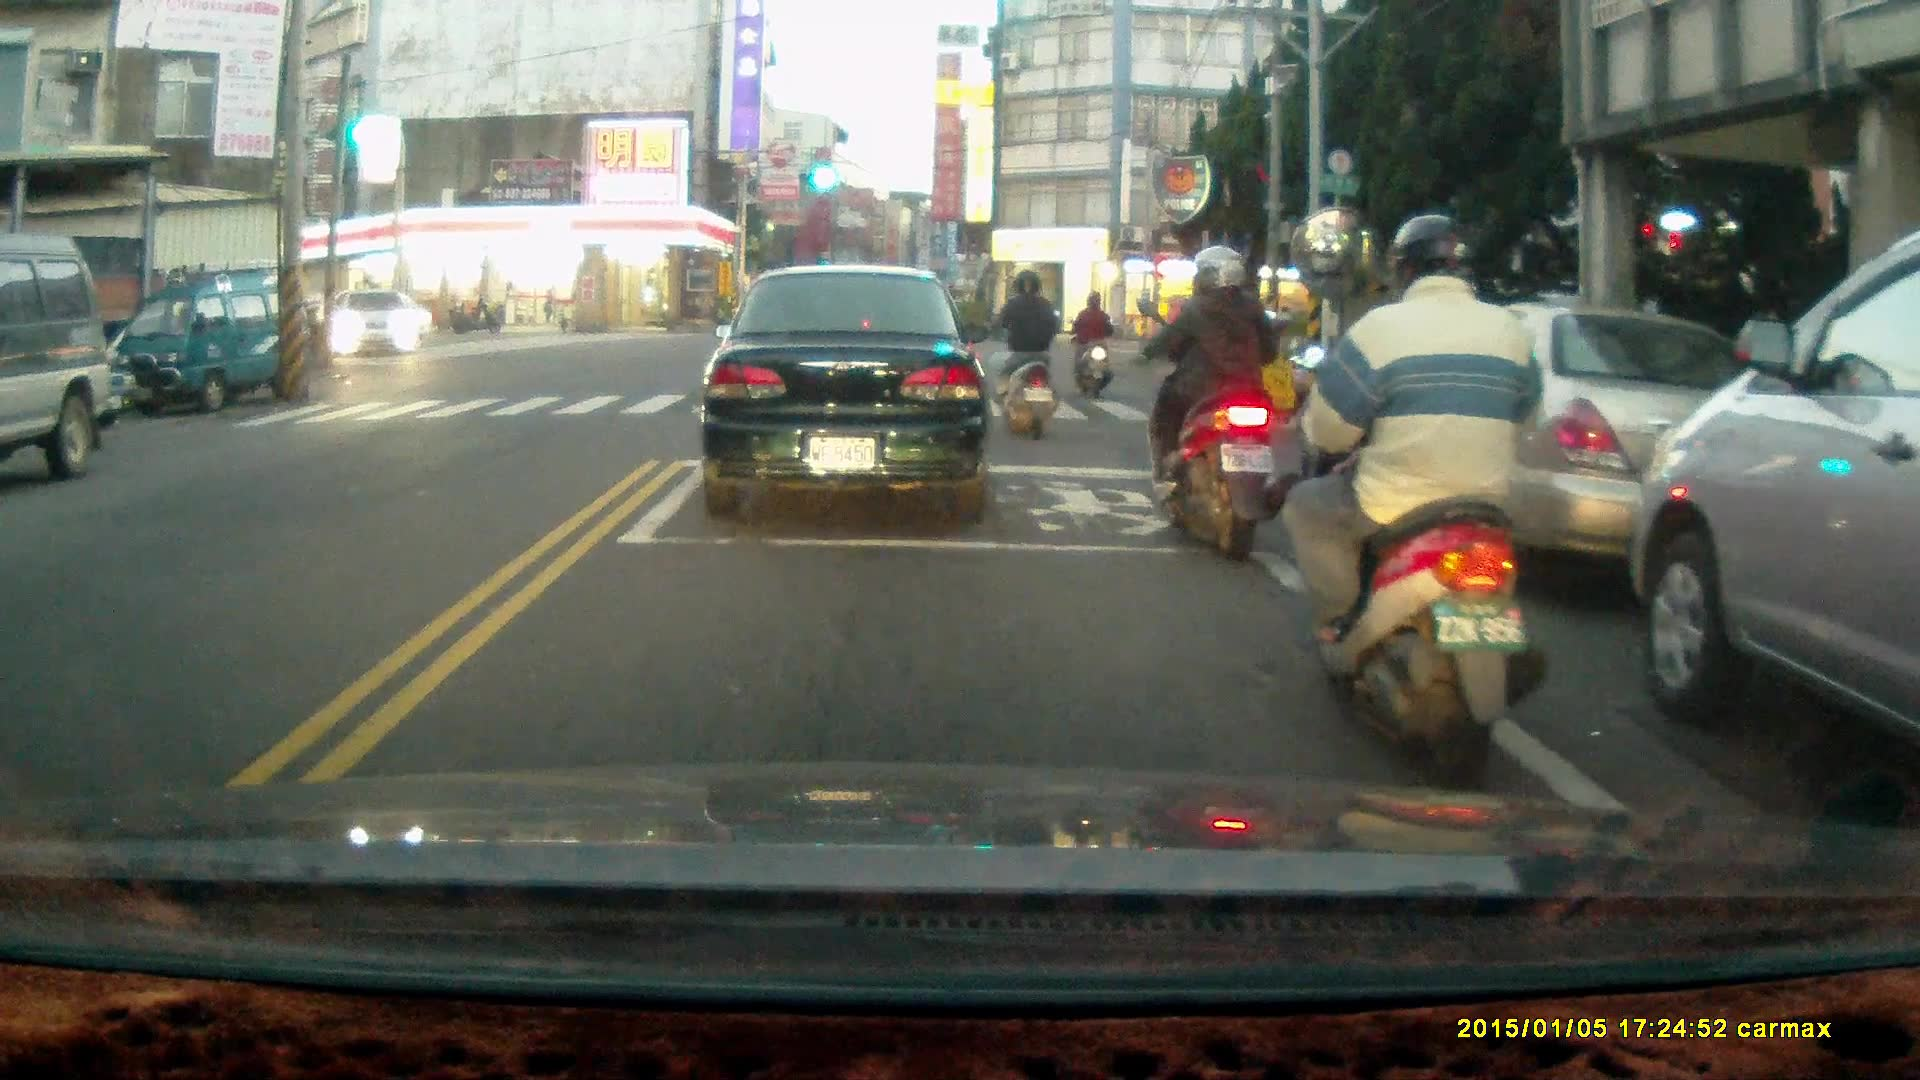rider: (1284, 214, 1551, 787), (1138, 242, 1300, 569), (990, 267, 1057, 440), (1073, 287, 1114, 400)
vehicle: (1628, 229, 1920, 758), (1395, 305, 1810, 597), (696, 261, 992, 525), (1, 234, 119, 484), (116, 263, 290, 413), (329, 289, 421, 361)
